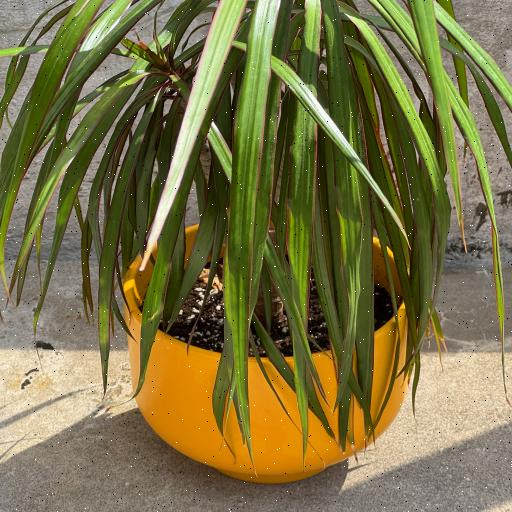Plant Pot: (122, 216, 410, 484)
